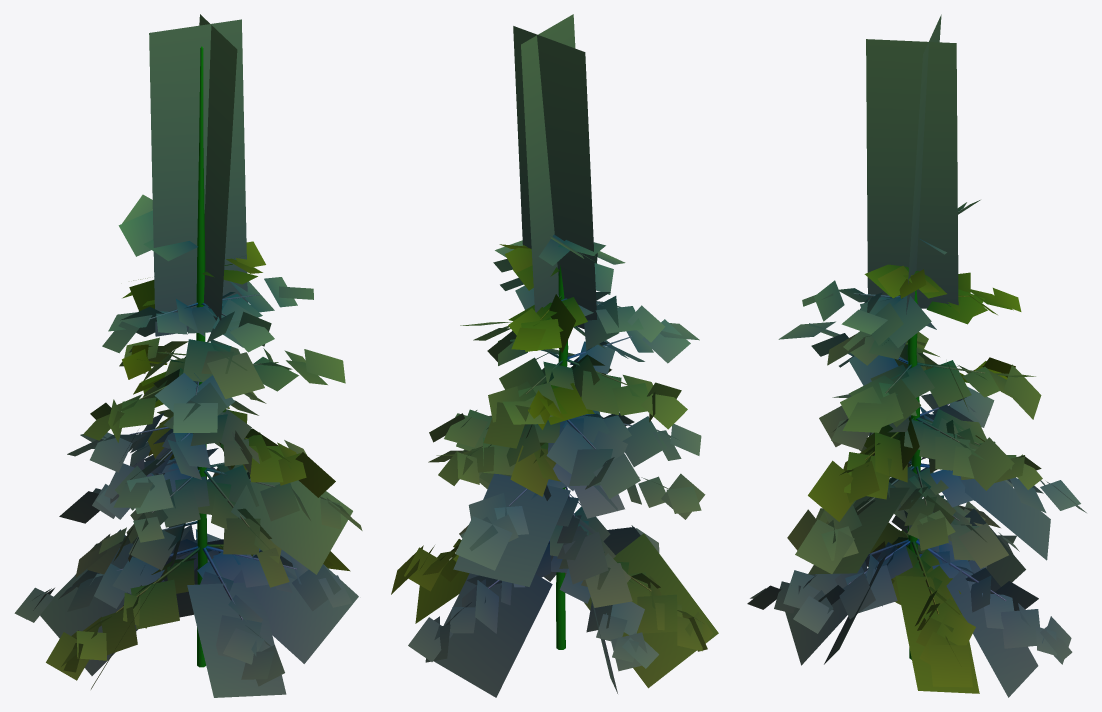
File: spruce_sapling_a.glb
The picture shows the model from 3 angles, left to right: view 1: azimuth 30°, elevation 25°; view 2: azimuth 150°, elevation 25°; view 3: azimuth 270°, elevation 25°; orthographic projection. The views are drawn at different scales.
Parts seen in each view (by area): view 1: LOD0; view 2: LOD0; view 3: LOD0.
Boxes of the visible parts, <box> form: LOD0: <box>14,14,362,697</box>; LOD0: <box>391,14,718,697</box>; LOD0: <box>747,14,1086,697</box>.
Size of what is drawn, in the model's own units: 1.43 by 2.8 by 1.36.
